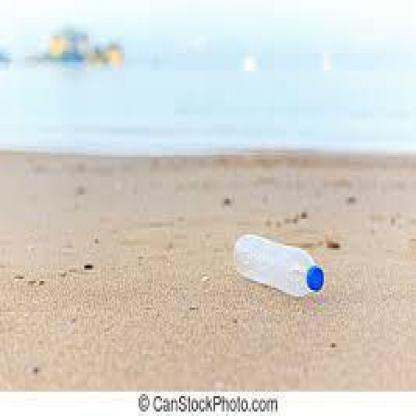plastic bottle: (235, 235, 325, 296)
